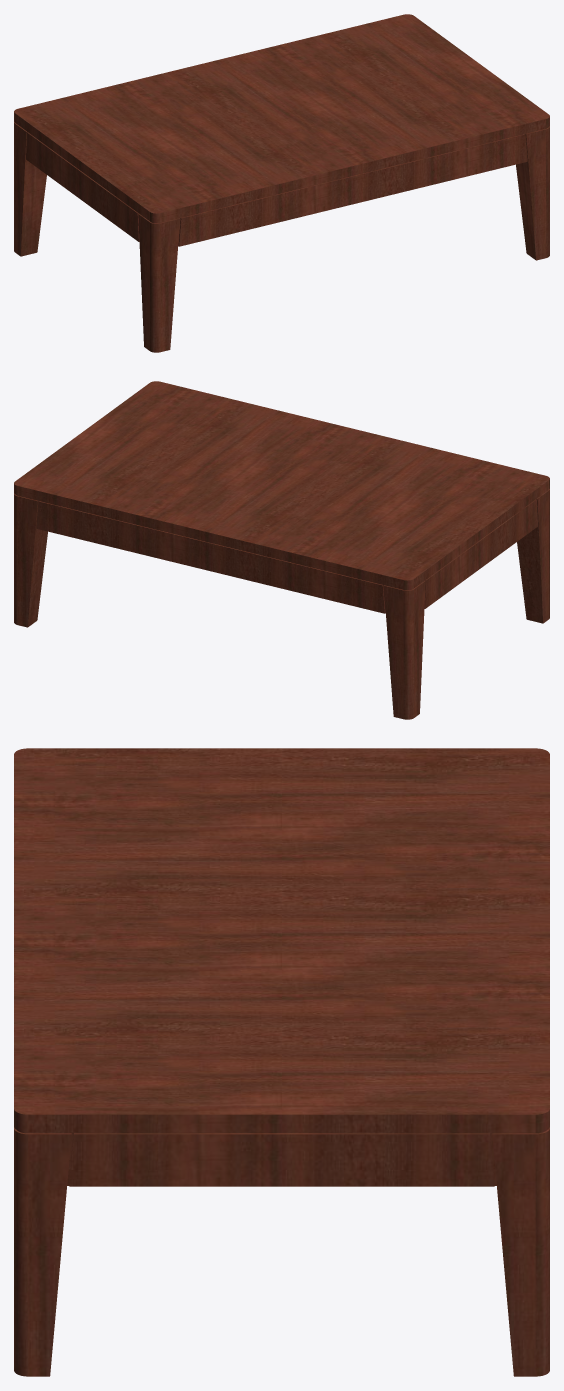
File: Mesa ratona 74x120x40.glb
3 views of the same model, one above another, from view 1: azimuth 30°, elevation 25°; view 2: azimuth 150°, elevation 25°; view 3: azimuth 270°, elevation 25° (orthographic). The views are drawn at different scales.
Visible parts, largest first — view 1: GeomCombination <8168 Joined Solid Geometry<, GeomCombination <13126 Joined Solid Geometry<; view 2: GeomCombination <8168 Joined Solid Geometry<, GeomCombination <13126 Joined Solid Geometry<; view 3: GeomCombination <8168 Joined Solid Geometry<, GeomCombination <13126 Joined Solid Geometry<.
Boxes of the visible parts, left/top/right/bottom form: GeomCombination <8168 Joined Solid Geometry<: left=14, top=14, right=549, bottom=223; GeomCombination <13126 Joined Solid Geometry<: left=14, top=122, right=549, bottom=352; GeomCombination <8168 Joined Solid Geometry<: left=14, top=381, right=549, bottom=590; GeomCombination <13126 Joined Solid Geometry<: left=14, top=489, right=549, bottom=719; GeomCombination <8168 Joined Solid Geometry<: left=14, top=748, right=549, bottom=1133; GeomCombination <13126 Joined Solid Geometry<: left=14, top=1127, right=549, bottom=1376.
Bounding box in the file's own units: 1.2 × 0.4 × 0.742.
Materials: 1 (1 with a texture image).
